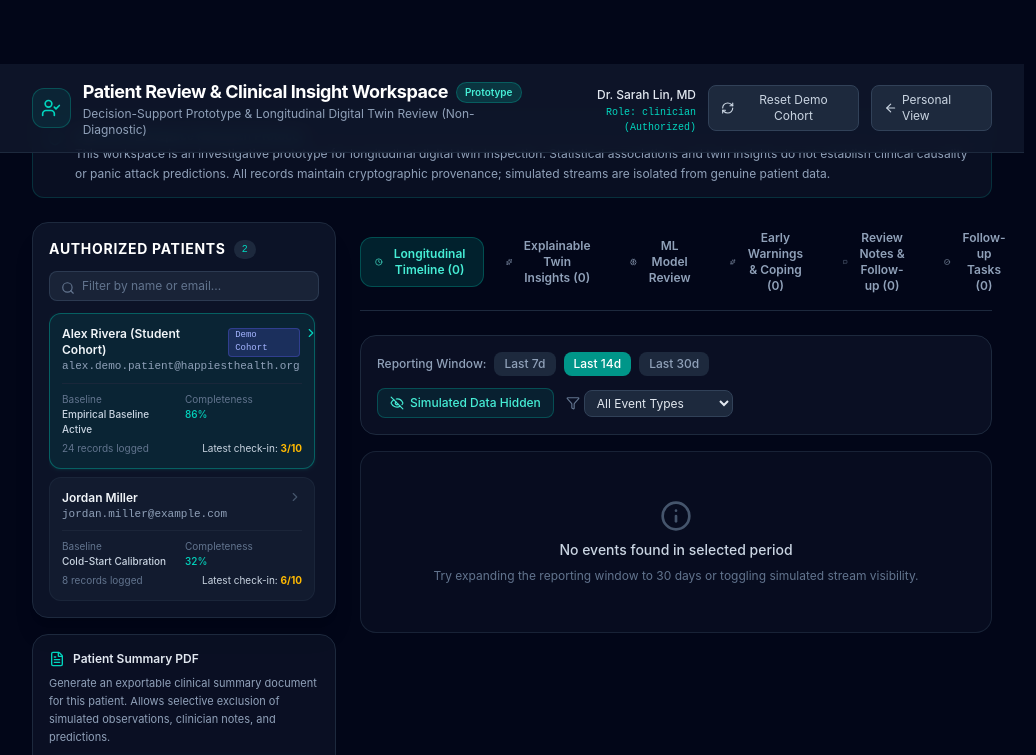
Test: Phase 6.2 — ClinicianWorkspacePage Component › switches to ML Prediction Review tab and renders honest horizon/disclaimers
The width and height of the screenshot is (1036, 755).
Click the button "ML Model Review" at (662,262), box [616,230,708,294]
(page scrolled)
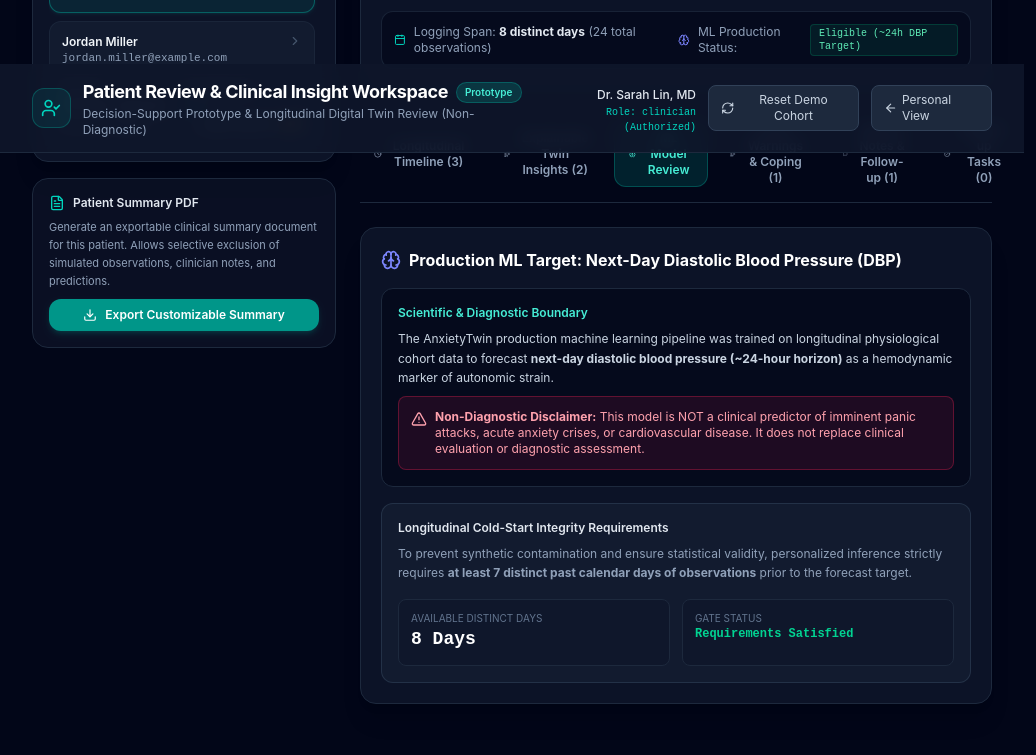
Check: the heading "Production ML Target: Next-Day Diastolic Blood Pressure" is shown, box [409,250,902,270]
Check: the text "Non-Diagnostic Disclaimer:" is shown, box [435,409,596,424]
Check: the text "Longitudinal Cold-Start Integrity Requirements" is shown, box [398,520,668,535]
